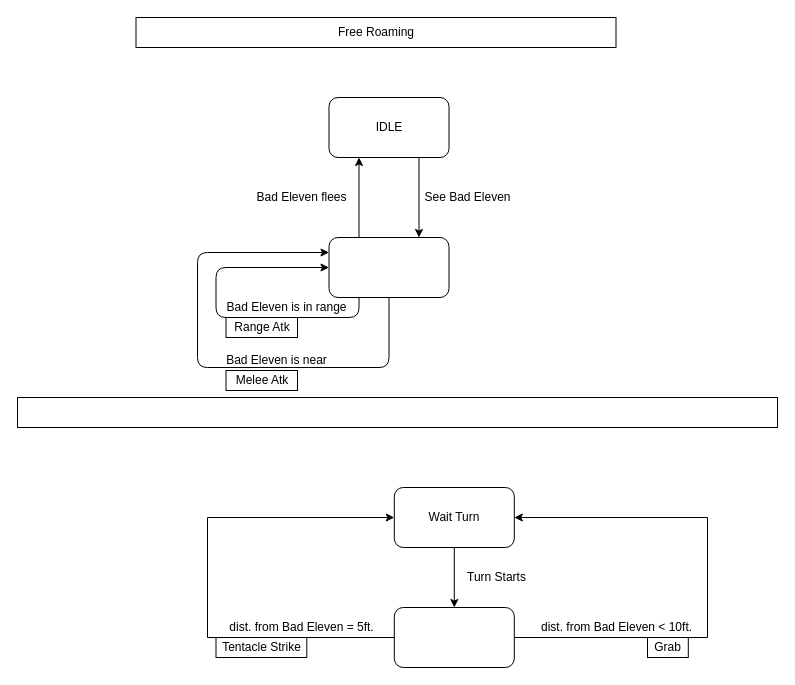
The diagram is 795 pixels wide and 685 high, and some of its shapes have lost their labels. Each missing label, with the centre of its shape:
"Action One" belongs at point (453, 637).
"AGGRESSIVE" belongs at point (388, 267).
"Battle Mode" belongs at point (397, 412).
